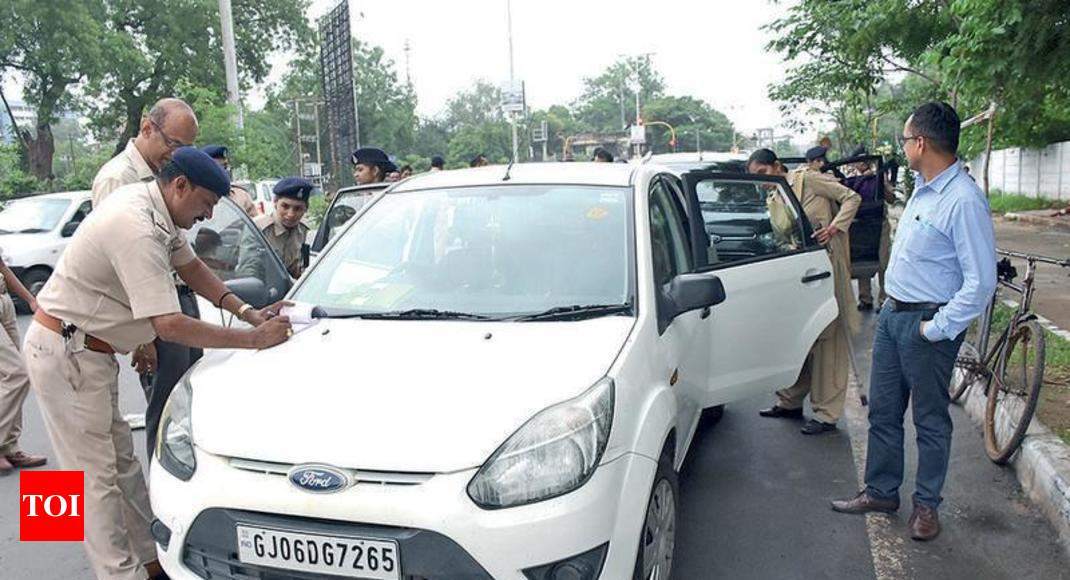number_plate: (230, 515, 421, 579)
